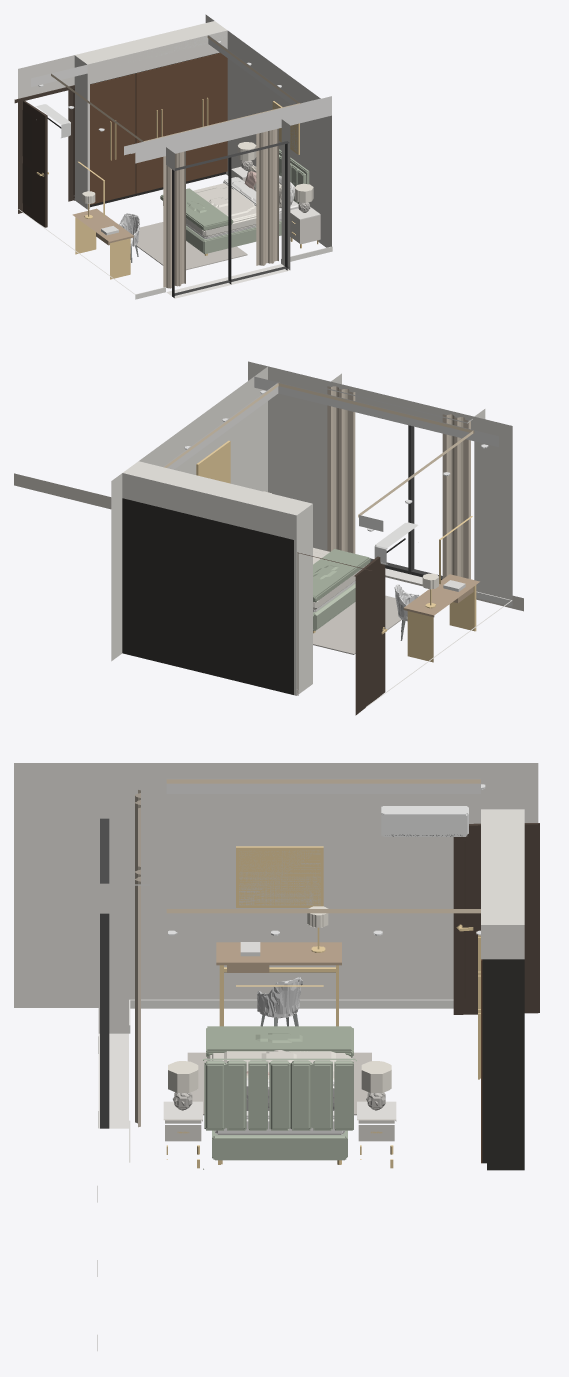
Rendered from ROOM3.glb.
3 views of the same model, one above another, from view 1: azimuth 30°, elevation 25°; view 2: azimuth 150°, elevation 25°; view 3: azimuth 270°, elevation 25° (orthographic). The views are drawn at different scales.
Visible parts, largest first — view 1: WEB_ROOM3; view 2: WEB_ROOM3; view 3: WEB_ROOM3.
Boxes of the visible parts, x1,y1,x2,y2 form: WEB_ROOM3: (14, 14, 332, 299); WEB_ROOM3: (14, 361, 523, 715); WEB_ROOM3: (14, 763, 539, 1350).
Bounding box in the file's own units: 8.36 × 3.2 × 5.59.
